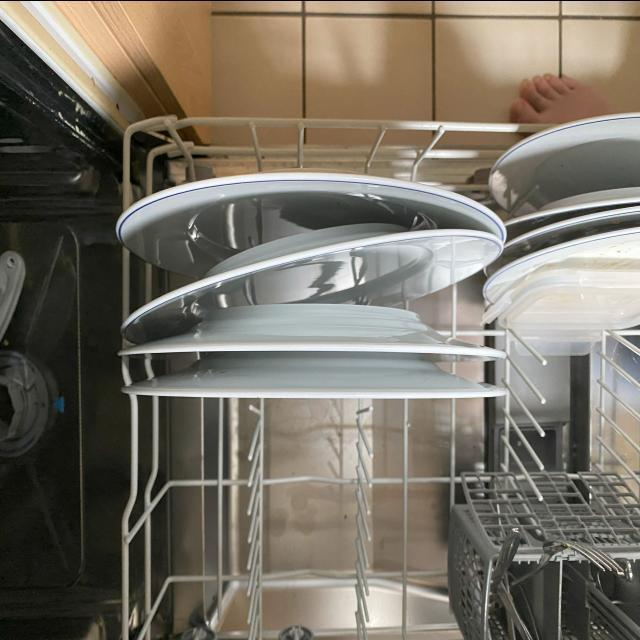clutery_bin: (472, 512, 640, 640)
empty_slot: (144, 407, 430, 629)
